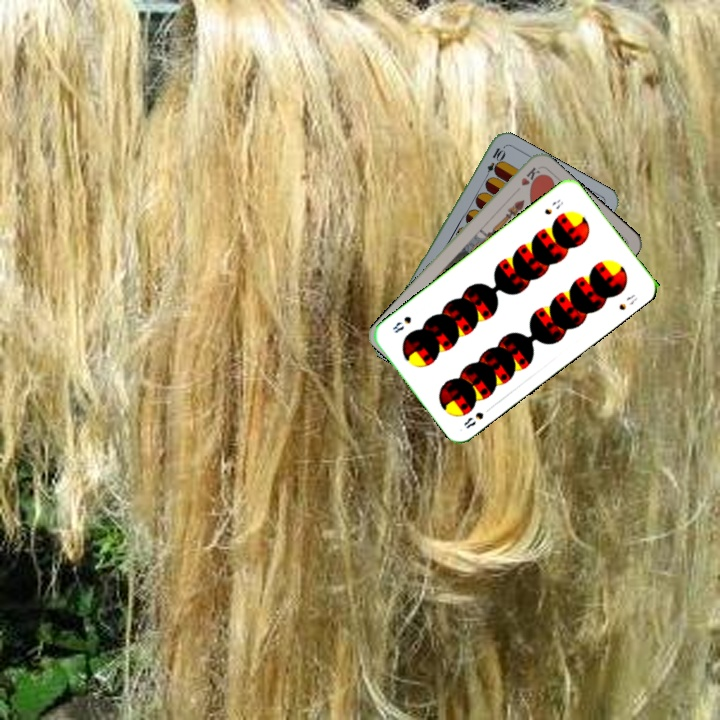E10: (480, 144, 507, 183)
HK: (517, 163, 542, 188)
S8: (460, 408, 486, 431), (540, 195, 566, 217)
